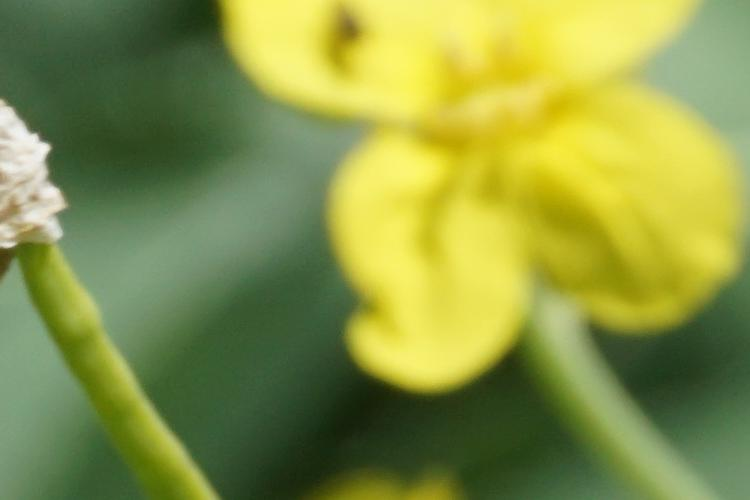yellow: (246, 26, 727, 371)
